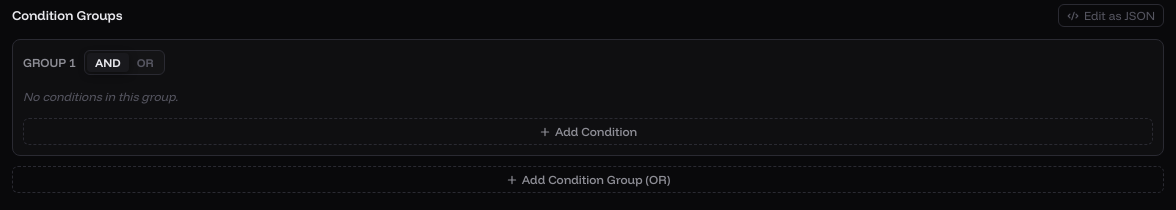
Scenario: ConditionRuleBuilder Component › toggling to JSON editor mode displays JSON textarea
Click the button titled "Toggle Raw JSON Editor": click(1111, 16) [1058, 4, 1164, 27]
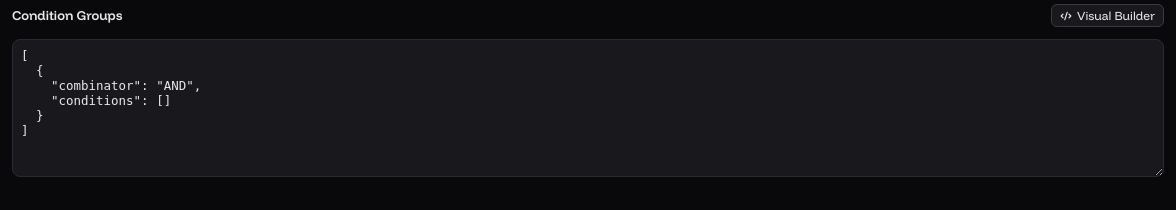
Now the text box with class "cr-builder__json-area" is shown
